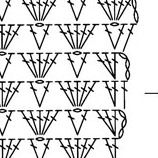enseble_chain: (88, 103, 122, 144), (108, 16, 141, 58), (88, 47, 122, 86), (70, 20, 105, 56), (34, 48, 68, 85), (71, 77, 105, 113), (35, 106, 67, 142), (13, 47, 44, 84), (14, 104, 44, 141), (0, 20, 30, 56), (0, 78, 30, 113), (30, 79, 60, 112), (67, 50, 96, 82), (32, 22, 60, 54), (32, 0, 65, 27), (56, 20, 81, 53), (57, 77, 81, 110), (71, 108, 96, 139), (75, 135, 103, 158), (0, 51, 20, 83), (106, 80, 127, 110), (0, 108, 20, 139), (1, 136, 28, 158), (110, 109, 129, 138), (35, 136, 57, 158), (104, 136, 120, 158), (108, 0, 124, 21), (75, 138, 87, 158)
fan: (63, 0, 83, 23), (69, 80, 86, 107), (70, 23, 86, 50), (65, 137, 80, 158)
